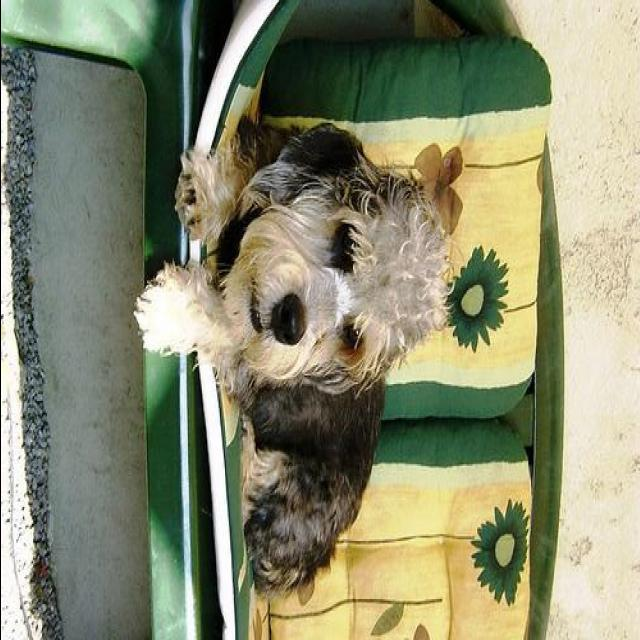dandie_dinmont: (132, 118, 450, 598)
